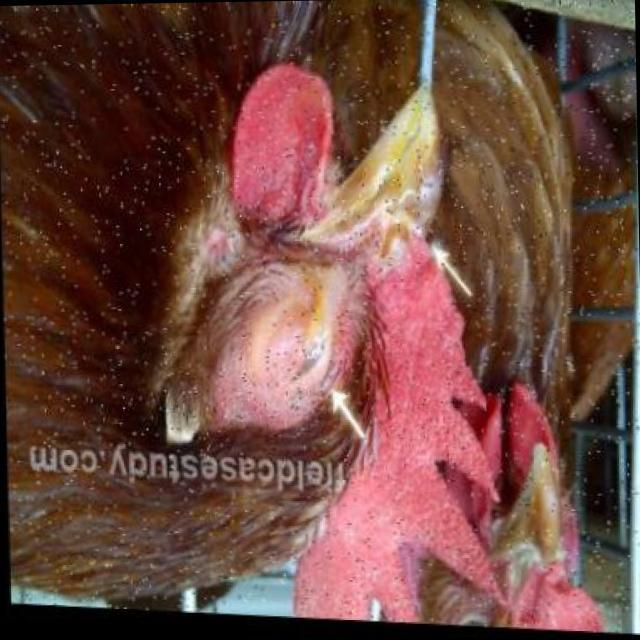Coryza: (232, 268, 370, 400)
